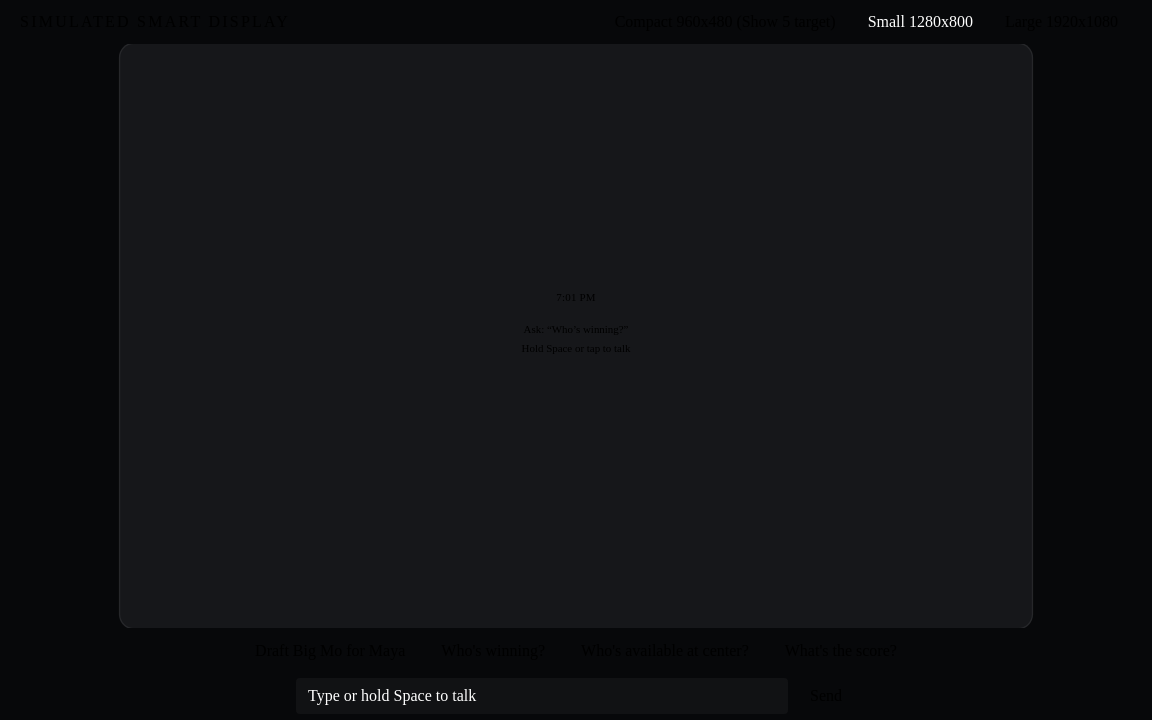
Scenario: DisplayScreen › typed prompt shows caption and spoken reply
Step 1. Type "Who's winning?" into the field named "Type a request" → (542, 696), box [296,678,788,714]
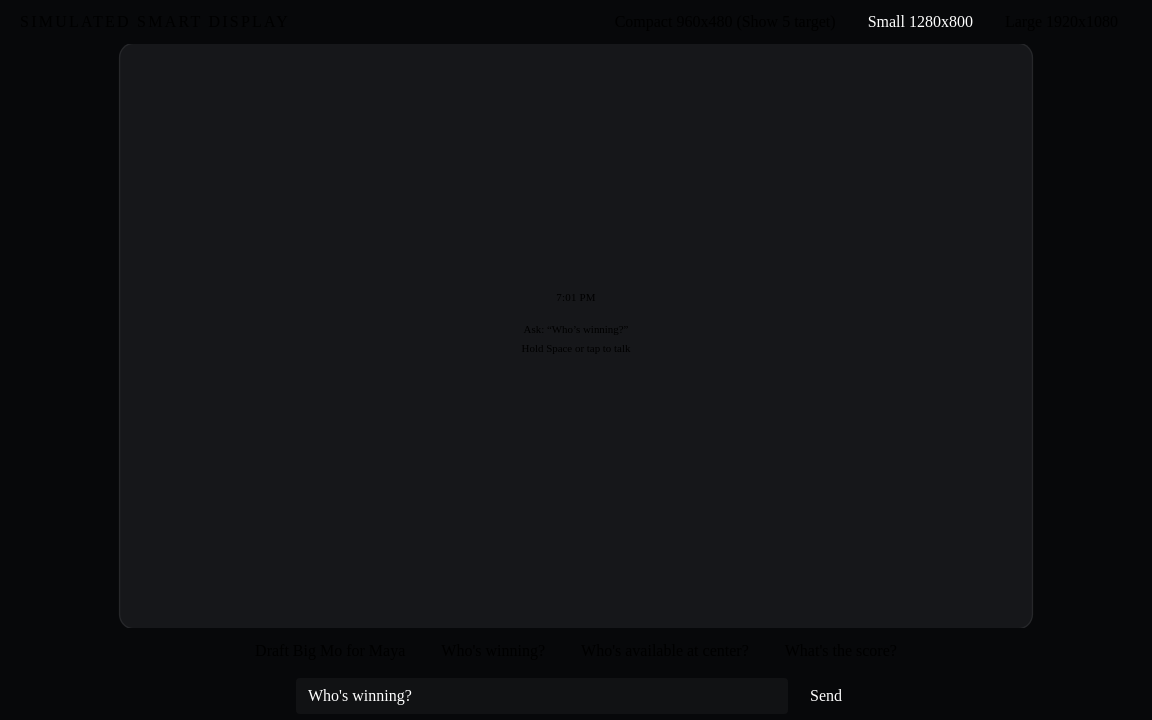
Step 2. Submit the form named "Type a request", box [296,678,856,714]
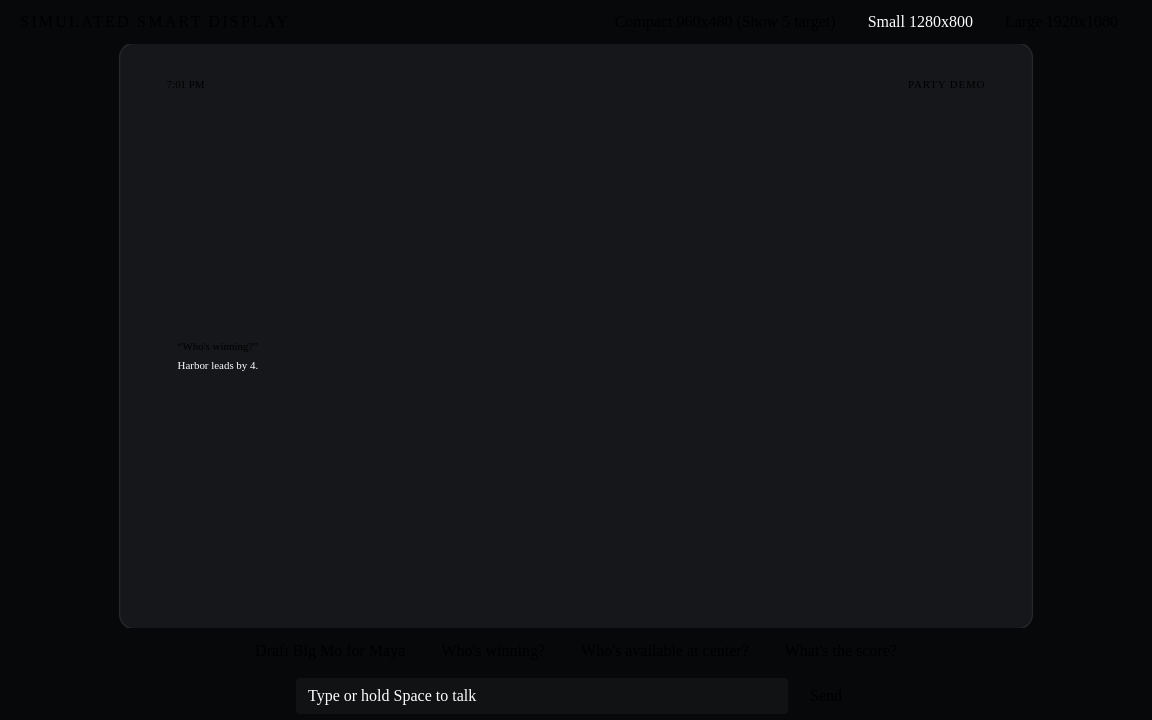
Expected: the text with test id "display-caption" reads "Who's winning?", [182,340,253,352]
Result: the text "Harbor leads by 4." is shown at [178,359,258,371]
